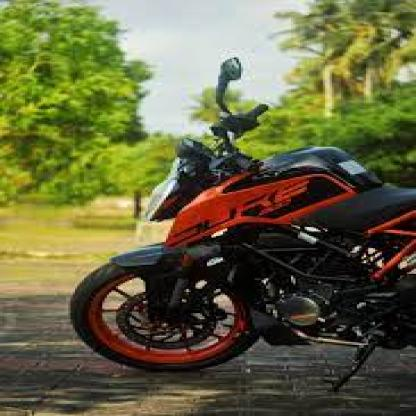bike: (61, 61, 416, 372)
